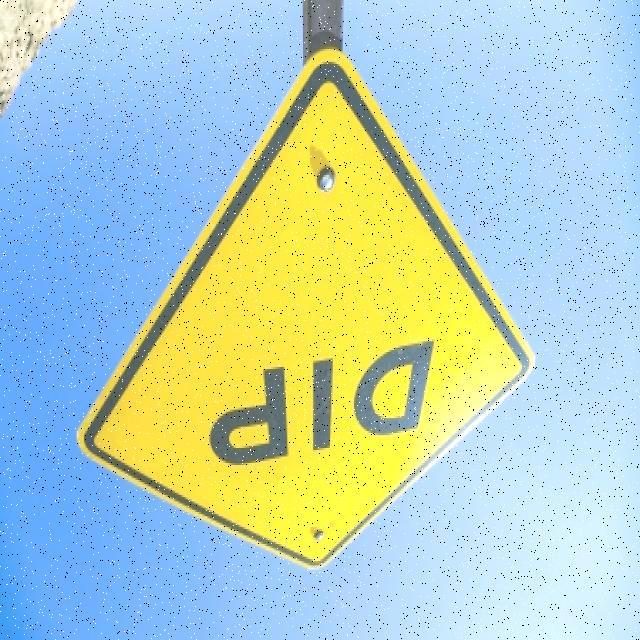Traffic sign: (74, 46, 540, 576)
